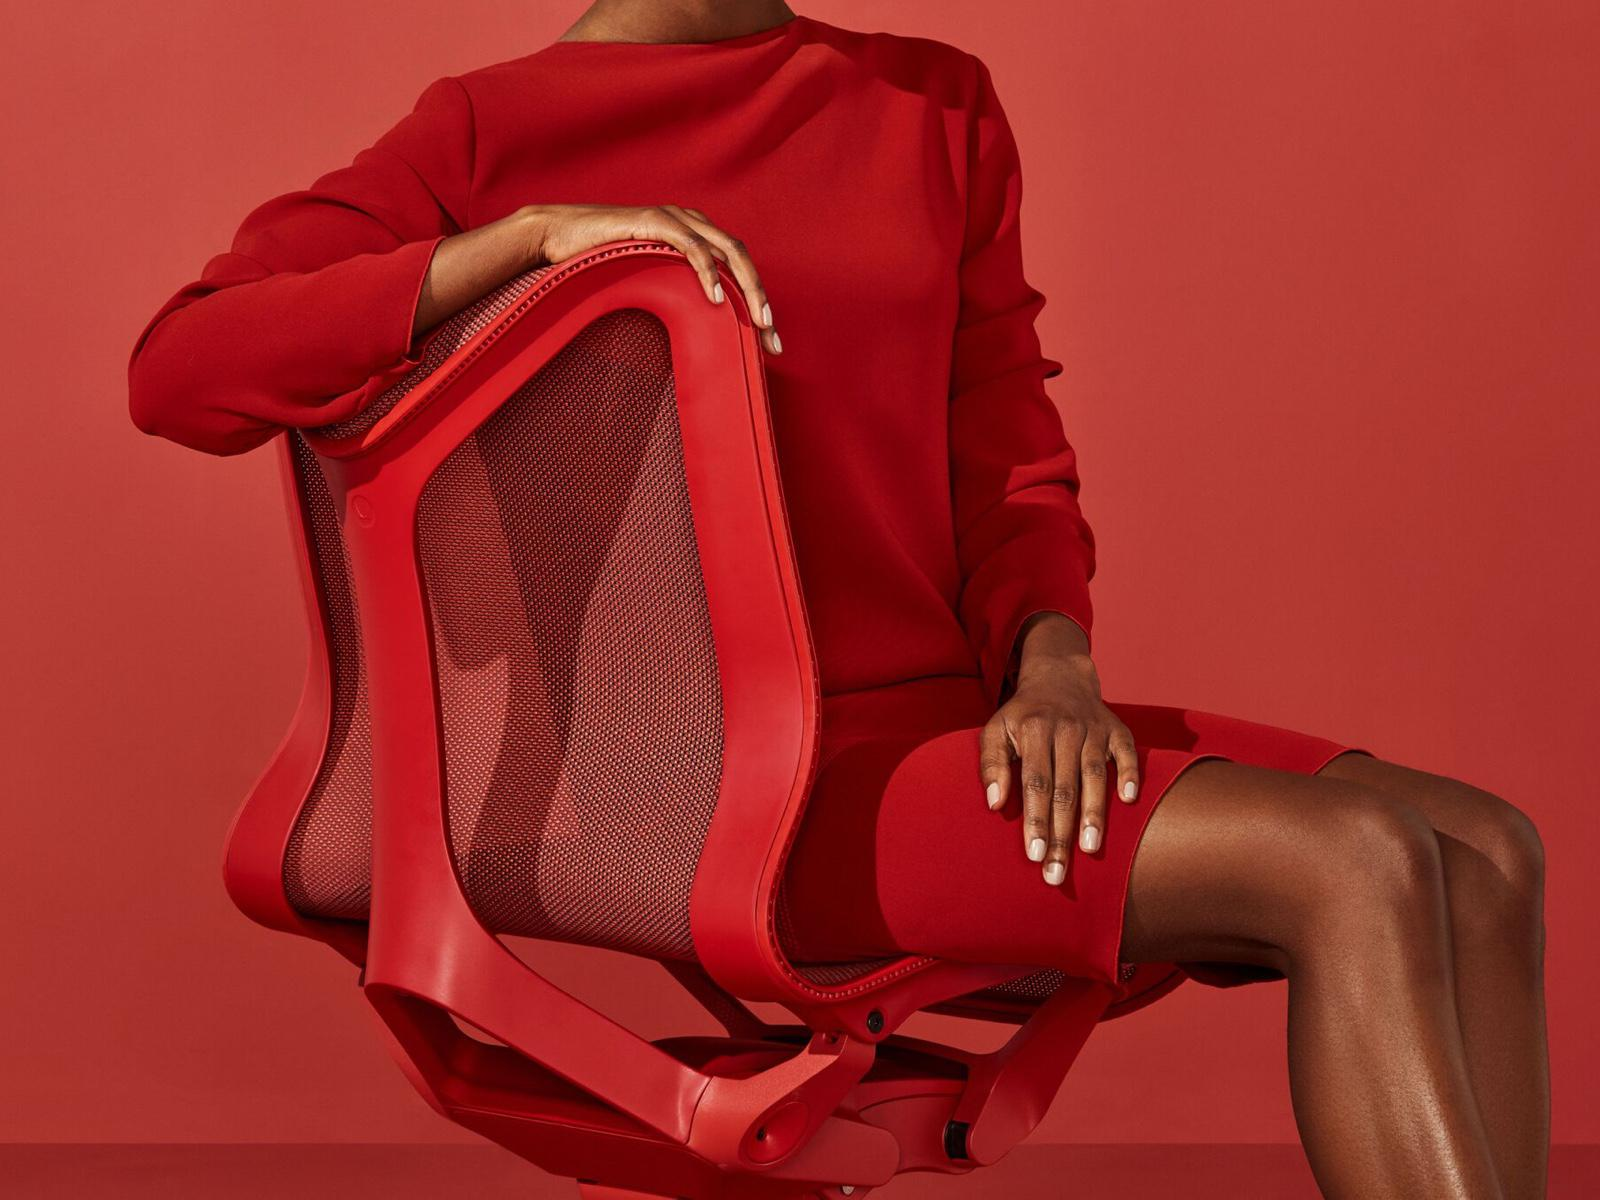chair: (152, 224, 1153, 1200)
